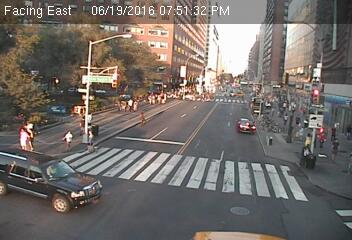neg: (47, 150, 70, 180), (255, 127, 276, 155), (296, 49, 315, 75), (282, 137, 298, 158), (39, 169, 54, 188)
pos: (326, 137, 347, 166), (59, 129, 79, 154), (135, 110, 150, 129)
